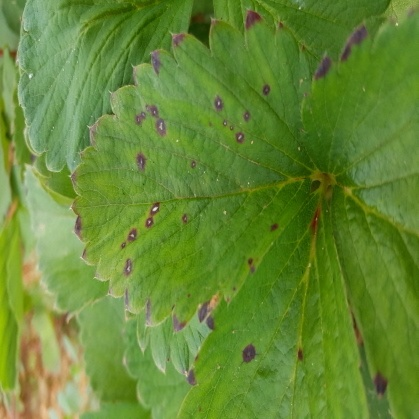Leaf_Spot: (102, 83, 352, 411), (49, 0, 321, 239)
